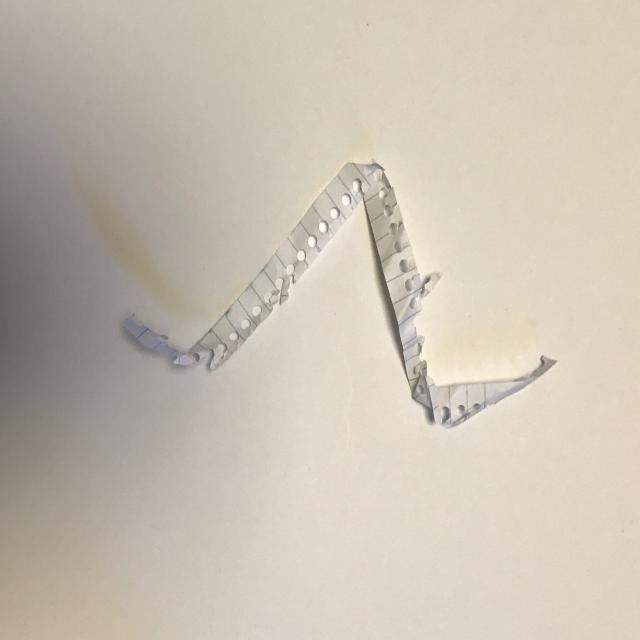paper: (122, 158, 558, 430)
